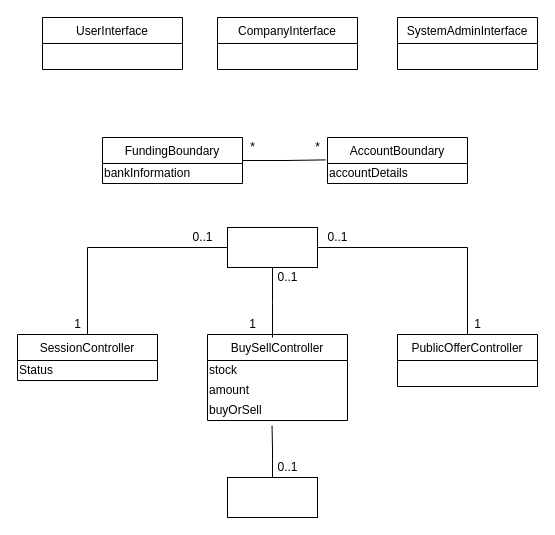
The diagram is 555 pixels wide and 535 high, and some of its shapes have lost their labels. The shapes that lost their labels are listed below. From the top down, each one's centre as x and y in pixels, then its label:
the point at 272,247: Account
the point at 272,497: CashCard
